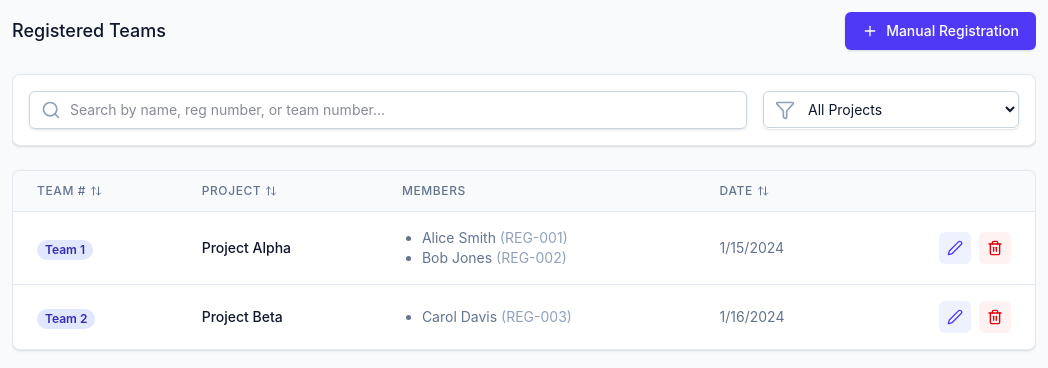
Scenario: TeamsPanel › delete removes team from table after confirmation
The width and height of the screenshot is (1048, 368).
expect the text "Team 1" is shown: met, box [37,240,93,260]
Step 1. Click the button titled "Delete Team" in the row of "Project Alpha" → (995, 248), box [979,232,1011,264]
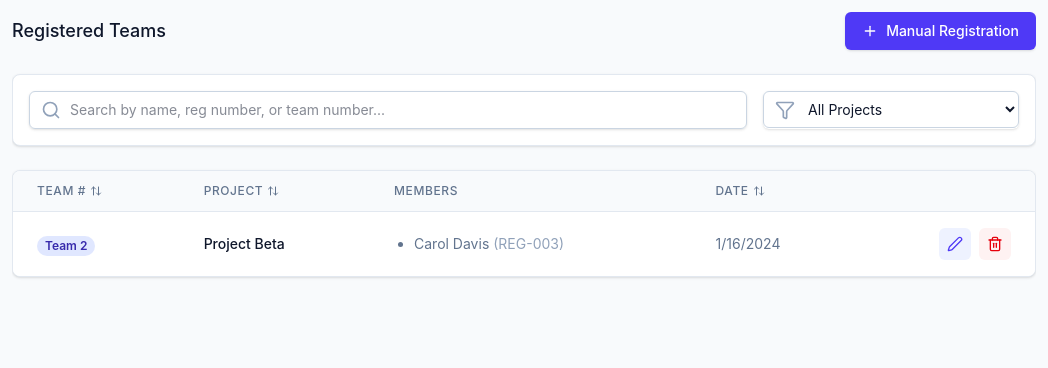
expect the text "Team 1" is gone: met
